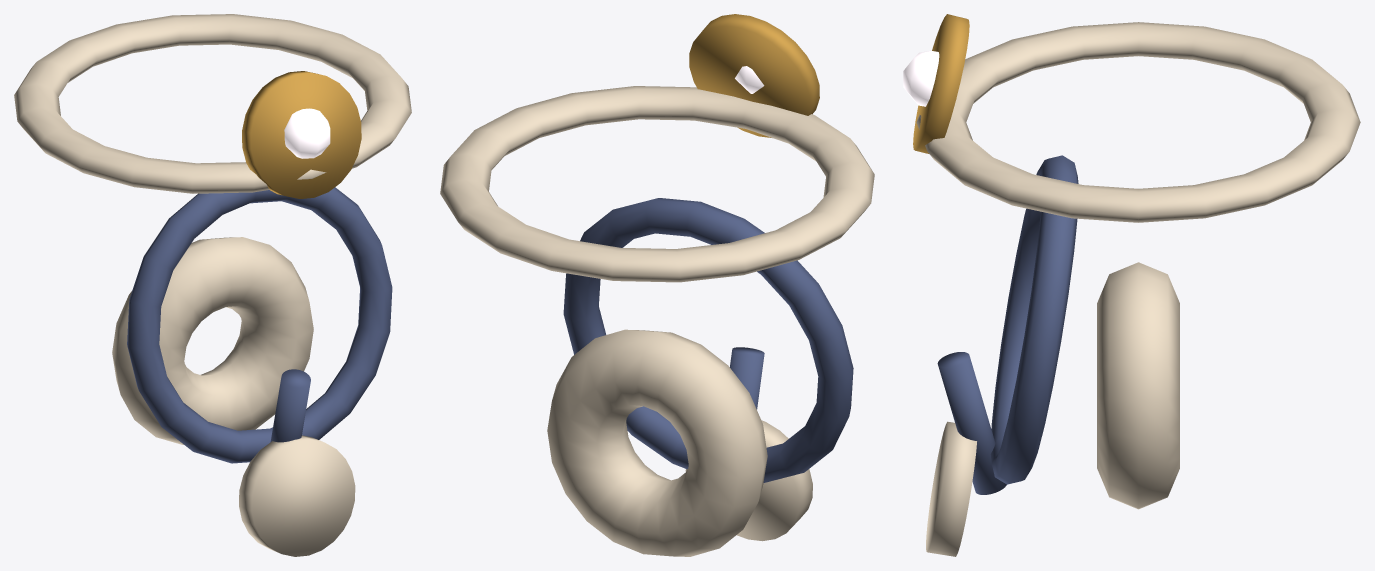
Rendered from opera_doctor_outfit.glb.
3 renders of one model, left to right at view 1: azimuth 30°, elevation 25°; view 2: azimuth 150°, elevation 25°; view 3: azimuth 270°, elevation 25°, orthographic. The views are drawn at different scales.
Visible parts, largest first — view 1: MirrorBand, Roll, ScopeLoop, ChestPad, Mirror, ScopeStem, MirrorGem; view 2: Roll, MirrorBand, ScopeLoop, Mirror, ChestPad, ScopeStem; view 3: MirrorBand, Roll, ScopeLoop, ChestPad, ScopeStem, Mirror, MirrorGem.
Part boxes in pixels (x1,y1,x2,y2): MirrorBand: (14, 14, 411, 193); Roll: (112, 237, 313, 444); ScopeLoop: (127, 187, 392, 463); ChestPad: (239, 435, 355, 556); Mirror: (242, 71, 361, 198); ScopeStem: (270, 369, 310, 442); MirrorGem: (284, 108, 330, 158); Roll: (547, 329, 767, 556); MirrorBand: (440, 86, 874, 282); ScopeLoop: (563, 198, 853, 482); Mirror: (689, 14, 819, 137); ChestPad: (685, 420, 812, 541); ScopeStem: (730, 347, 764, 409); MirrorBand: (916, 22, 1360, 222); Roll: (1097, 262, 1179, 509); ScopeLoop: (990, 155, 1078, 484); ChestPad: (926, 421, 976, 556); ScopeStem: (937, 352, 1006, 494); Mirror: (913, 14, 969, 153); MirrorGem: (903, 50, 939, 106).
Bounding box in the file's own units: 2.14 × 2.82 × 2.2.
